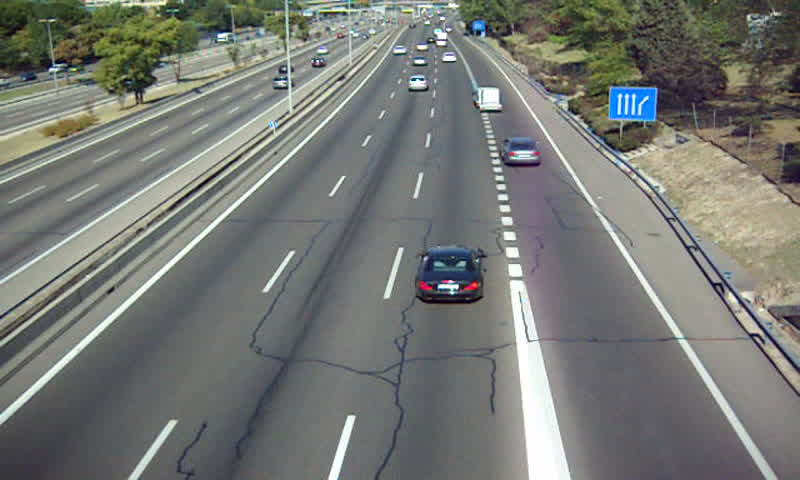car: (416, 247, 484, 302), (501, 137, 543, 165), (407, 76, 429, 91), (441, 51, 460, 65), (412, 56, 430, 67)
van: (472, 86, 501, 110)
